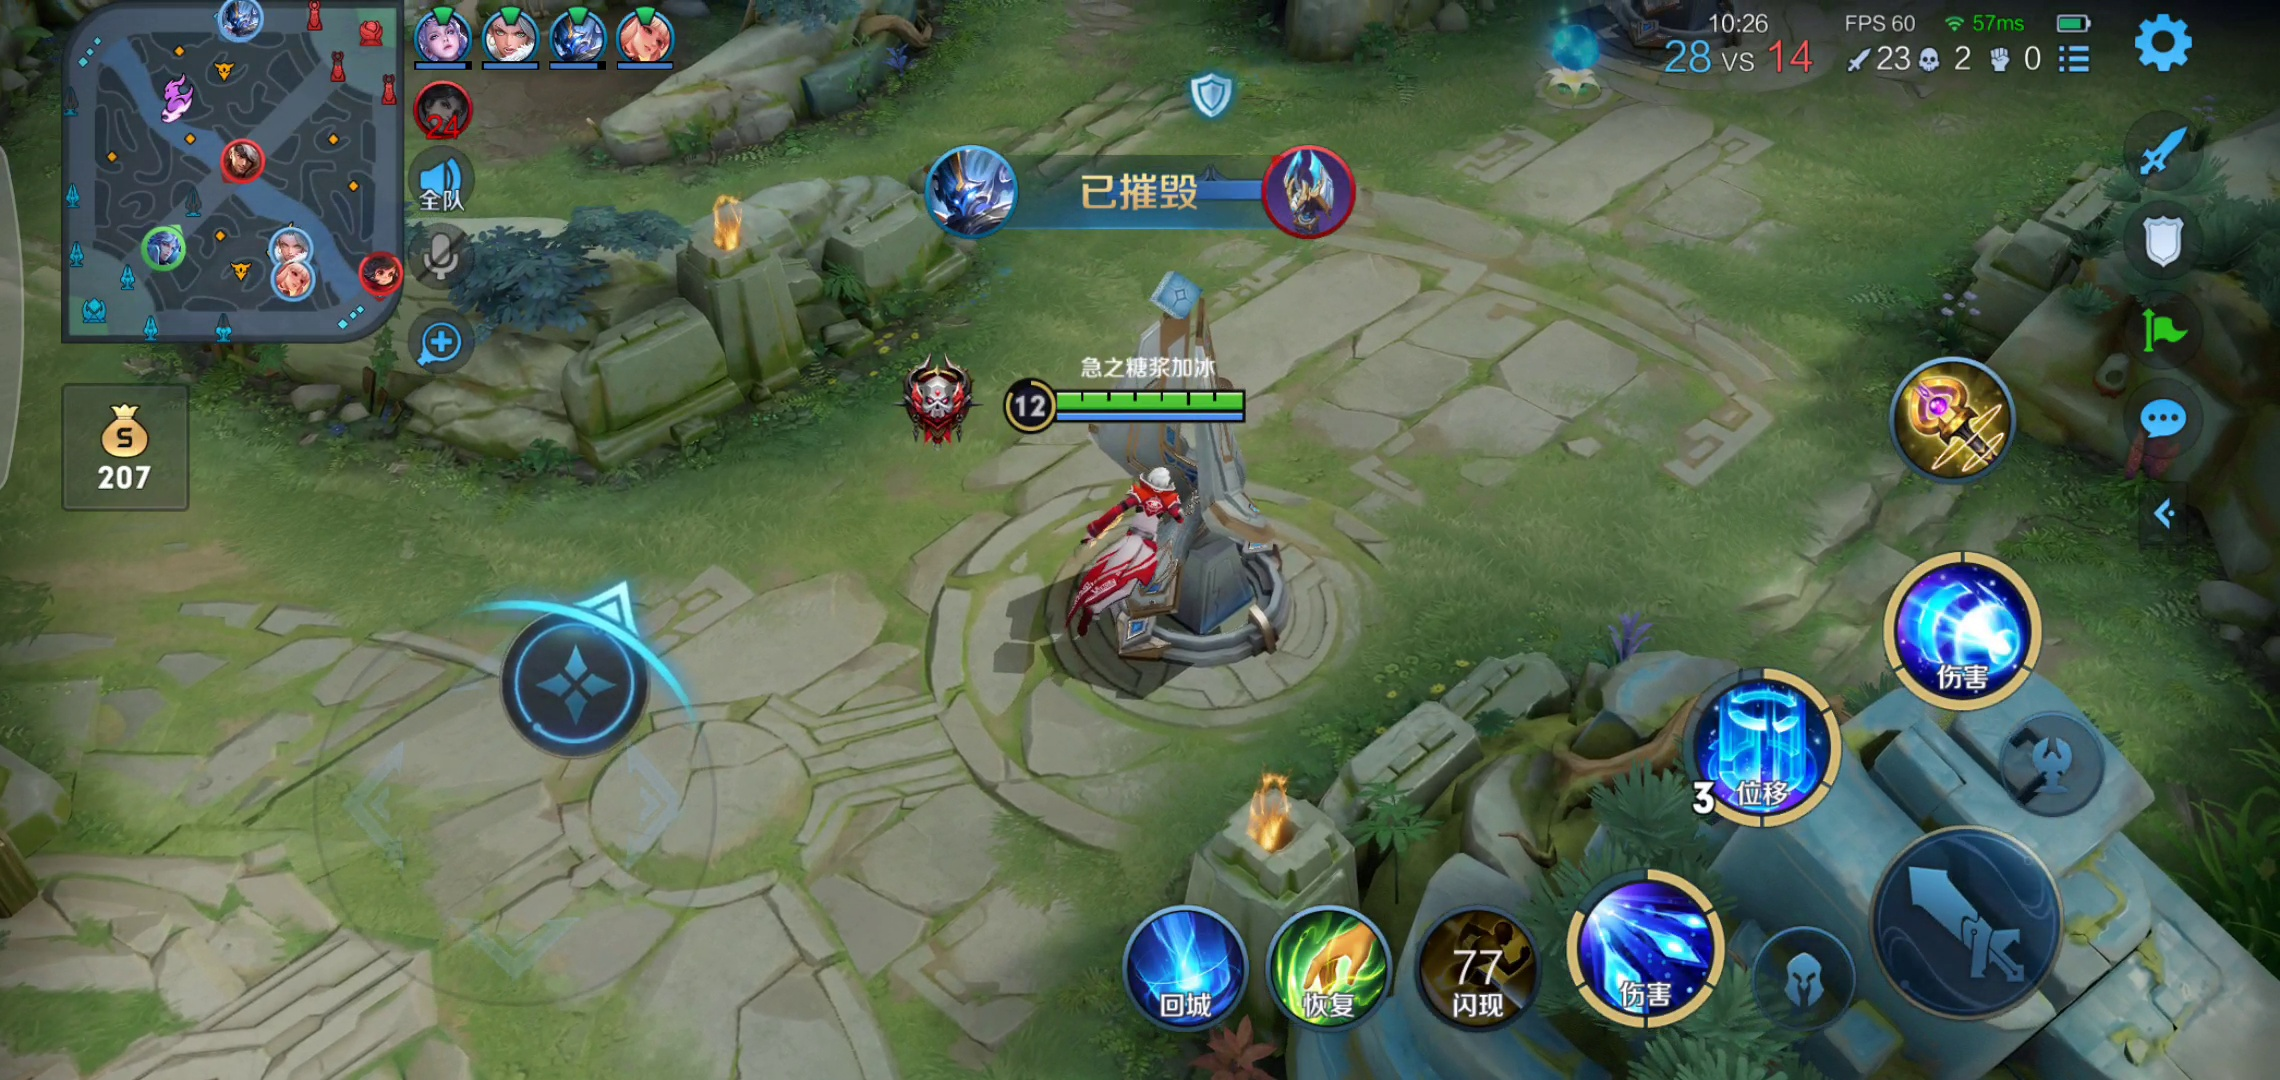grass: (2181, 685, 2280, 956)
hero: (1088, 472, 1184, 657)
tower: (1011, 281, 1333, 680)
